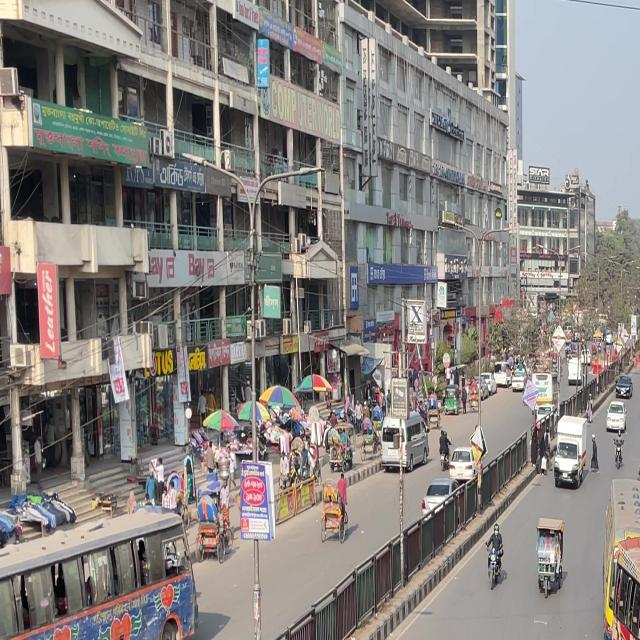bus: (1, 508, 201, 640), (599, 474, 640, 640), (603, 524, 640, 640)
car: (446, 438, 486, 492), (604, 395, 630, 442)
motorbike: (481, 518, 512, 596), (614, 425, 627, 470)
van: (548, 414, 595, 490), (376, 415, 428, 470)
